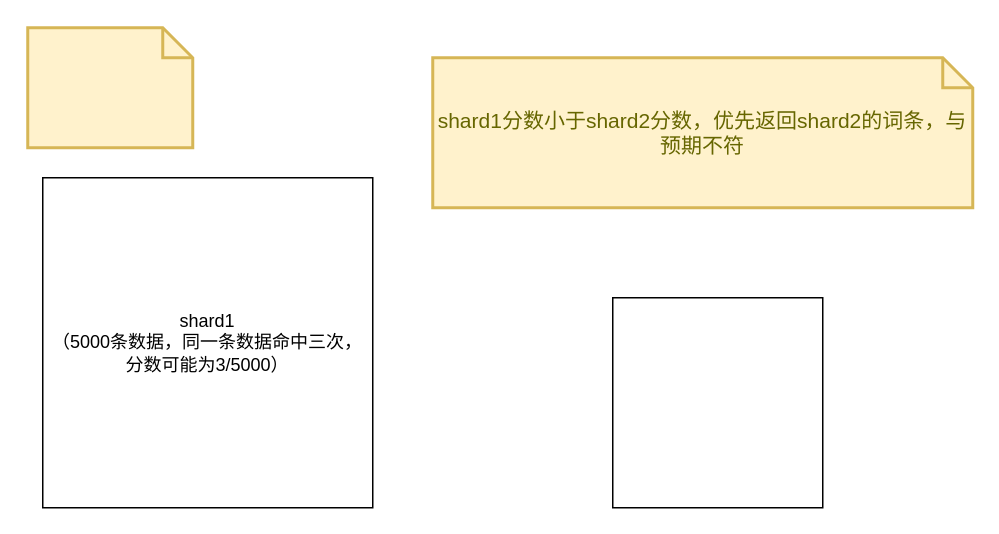
Some shapes in this 999 by 534 pixel diagram are drawn without their labels. Each missing label, with the centre of its shape:
shard2 100条数据，同一条数据命中一次，分数为1/10: point 717,402
搜索 吃鸡手机 关键字: point 110,87
